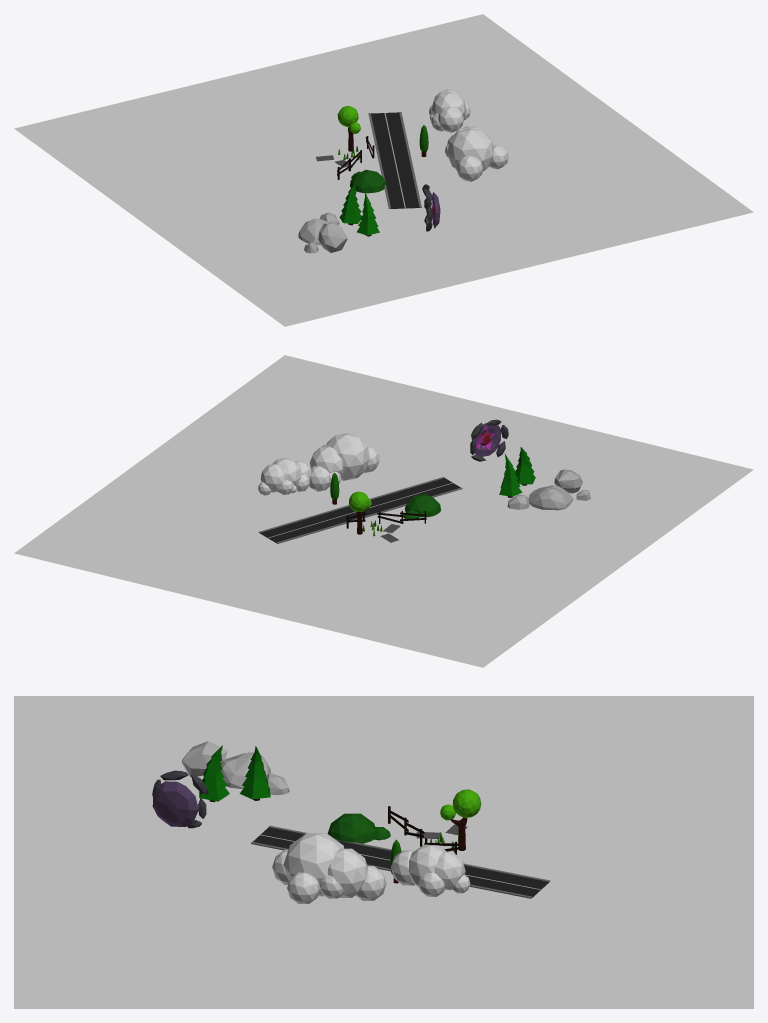
The model's file is Low-Poly_Models.obj.
The picture shows the model from 3 angles, top to bottom: view 1: azimuth 30°, elevation 25°; view 2: azimuth 150°, elevation 25°; view 3: azimuth 270°, elevation 25°; orthographic projection. The views are drawn at different scales.
Parts seen in each view (by area): view 1: Plane, Cube.016, Icosphere.016, Sphere.001, Icosphere.025, Cylinder.001, Icosphere.013, Icosphere.003, Icosphere.010, Cylinder; view 2: Plane, Cube.016, Icosphere.016, Sphere, Cylinder.011, Icosphere.017, Icosphere.025, Cylinder.001; view 3: Plane, Cube.016, Icosphere.016, Cylinder.011, Icosphere.017, Icosphere.025, Cylinder.001, Cylinder, Icosphere.010, Sphere, Sphere.001, Icosphere.015 (+4 smaller).
Boxes of the visible parts, x1=… form: Plane: x1=14, y1=14, x2=753, y2=326; Cube.016: x1=368, y1=112, x2=421, y2=208; Icosphere.016: x1=447, y1=128, x2=493, y2=171; Sphere.001: x1=318, y1=223, x2=347, y2=252; Icosphere.025: x1=350, y1=169, x2=385, y2=193; Cylinder.001: x1=339, y1=181, x2=361, y2=225; Icosphere.013: x1=456, y1=156, x2=483, y2=181; Icosphere.003: x1=438, y1=106, x2=463, y2=132; Icosphere.010: x1=431, y1=91, x2=466, y2=117; Cylinder: x1=357, y1=192, x2=379, y2=236; Plane: x1=14, y1=355, x2=753, y2=667; Cube.016: x1=258, y1=477, x2=462, y2=543; Icosphere.016: x1=325, y1=433, x2=369, y2=480; Sphere: x1=528, y1=485, x2=573, y2=510; Cylinder.011: x1=472, y1=423, x2=500, y2=456; Icosphere.017: x1=310, y1=446, x2=343, y2=477; Icosphere.025: x1=405, y1=494, x2=440, y2=517; Cylinder.001: x1=499, y1=453, x2=522, y2=497; Plane: x1=14, y1=696, x2=753, y2=1008; Cube.016: x1=251, y1=825, x2=550, y2=898; Icosphere.016: x1=283, y1=833, x2=344, y2=896; Cylinder.011: x1=152, y1=781, x2=198, y2=826; Icosphere.017: x1=327, y1=848, x2=367, y2=897; Icosphere.025: x1=327, y1=813, x2=375, y2=843; Cylinder.001: x1=239, y1=746, x2=270, y2=800; Cylinder: x1=199, y1=745, x2=229, y2=802; Icosphere.010: x1=408, y1=844, x2=446, y2=887; Sphere: x1=220, y1=752, x2=270, y2=788; Sphere.001: x1=181, y1=741, x2=227, y2=777; Icosphere.015: x1=287, y1=872, x2=320, y2=903.
Size of the model in its own units: 47.01 by 6.32 by 47.01.
